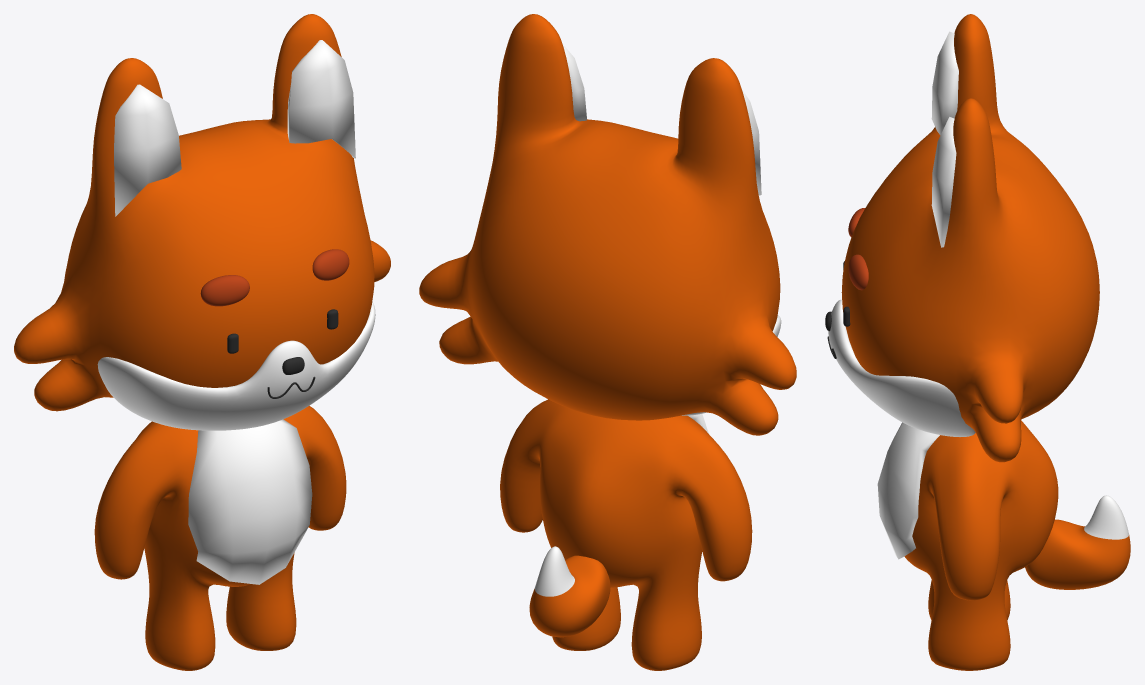
The model's file is Fox_NoDecimate.fbx.
3 views of the same model, side by side, from view 1: azimuth 30°, elevation 25°; view 2: azimuth 150°, elevation 25°; view 3: azimuth 270°, elevation 25° (orthographic). The views are drawn at different scales.
Visible parts, largest first — view 1: Fox_no decimate; view 2: Fox_no decimate; view 3: Fox_no decimate.
Part boxes in pixels (x1,y1,x2,y2): Fox_no decimate: (14,14,390,670); Fox_no decimate: (419,14,796,670); Fox_no decimate: (825,14,1130,670).
Size of the model in its own units: 256 by 402 by 190.
